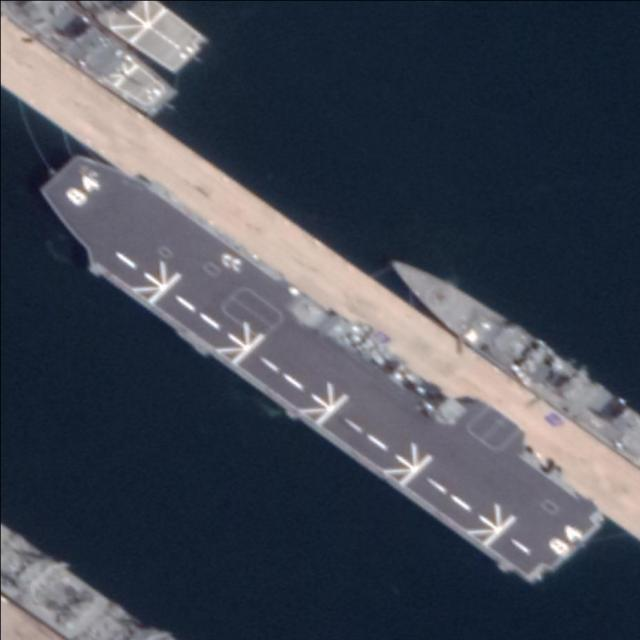Destroyer: (19, 129, 604, 602)
